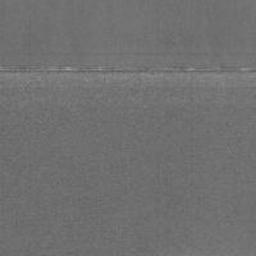Welding line: (0, 61, 256, 76)
